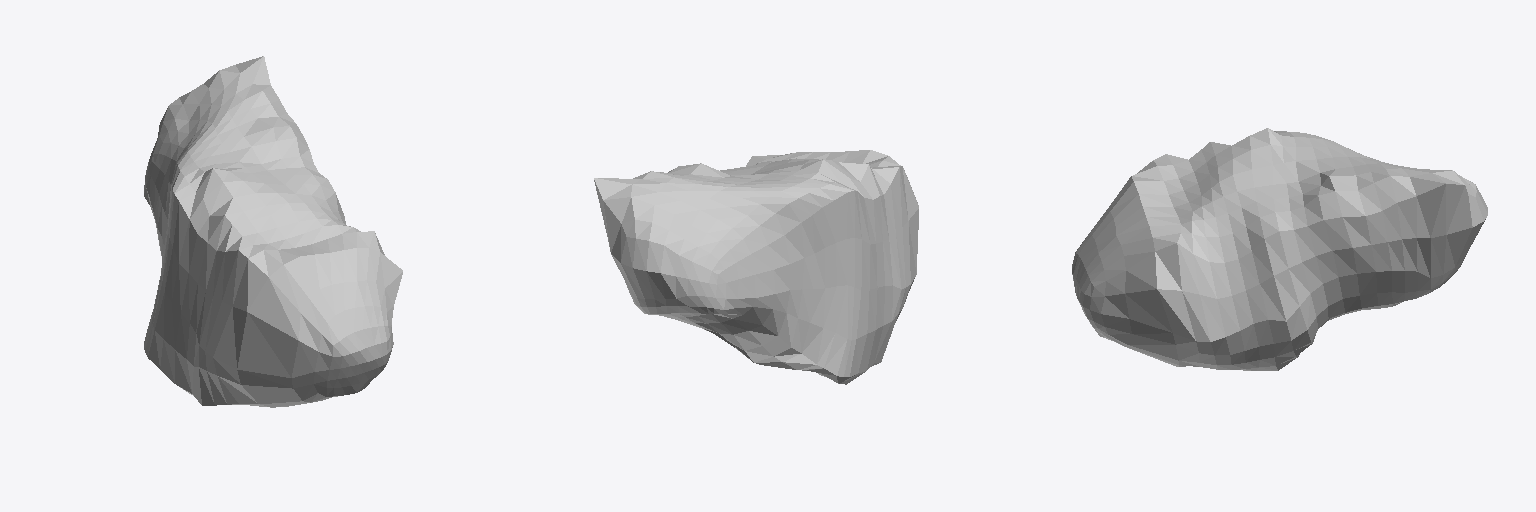
Rendered from rock048.obj.
3 renders of one model, left to right at view 1: azimuth 30°, elevation 25°; view 2: azimuth 150°, elevation 25°; view 3: azimuth 270°, elevation 25°, orthographic.
Visible parts, largest first — view 1: rockwall_a09c1; view 2: rockwall_a09c1; view 3: rockwall_a09c1.
Part boxes in pixels (x1,y1,x2,y2): rockwall_a09c1: (144,56,402,407); rockwall_a09c1: (594,150,918,384); rockwall_a09c1: (1072,128,1487,370).
Size of the model in its own units: 954 by 1112 by 1797.